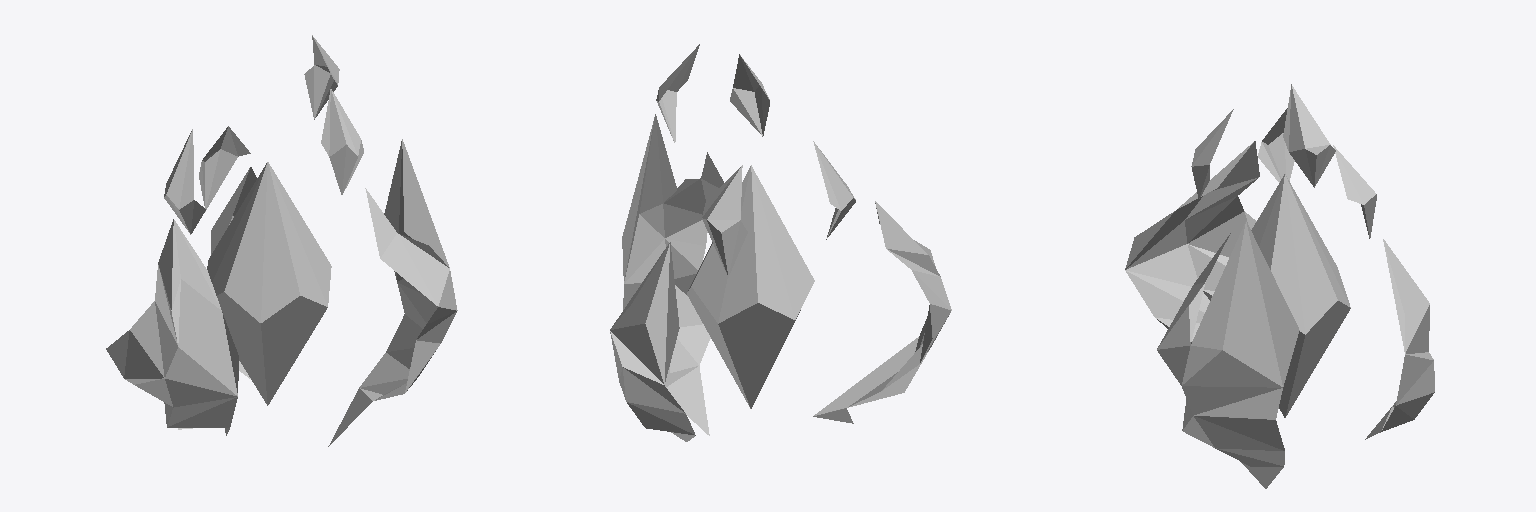
File: activated.obj
3 renders of one model, left to right at view 1: azimuth 30°, elevation 25°; view 2: azimuth 150°, elevation 25°; view 3: azimuth 270°, elevation 25°, orthographic.
Parts seen in each view (by area): view 1: Activated; view 2: Activated; view 3: Activated.
Boxes of the visible parts, x1=… form: Activated: x1=106, y1=35, x2=457, y2=446; Activated: x1=610, y1=44, x2=951, y2=441; Activated: x1=1125, y1=84, x2=1434, y2=488.
Size of the model in its own units: 1.2 by 1.47 by 1.02.